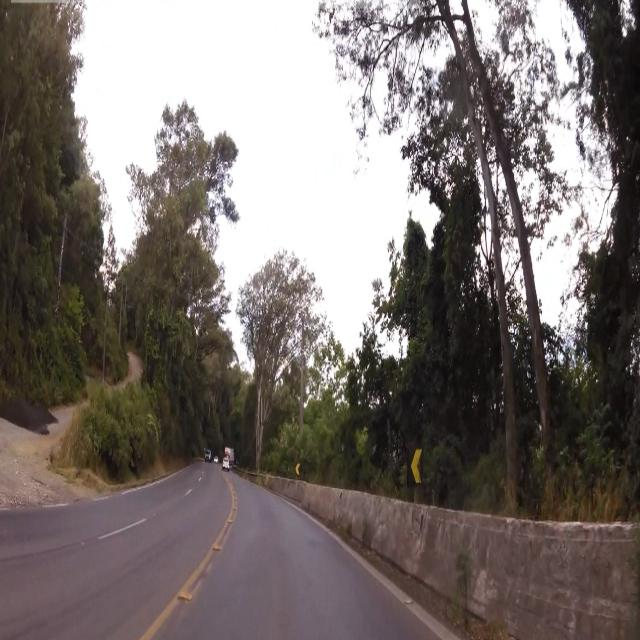Del: (403, 443, 433, 495)
